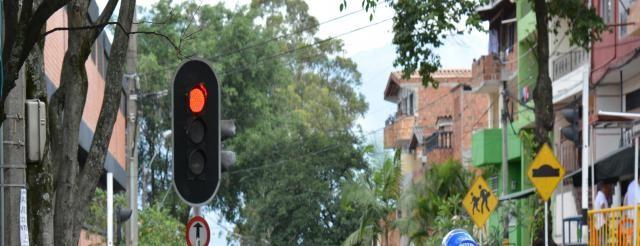red_light: (171, 59, 221, 206)
